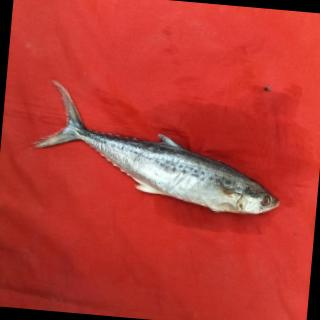Ikan: (29, 72, 297, 228)
